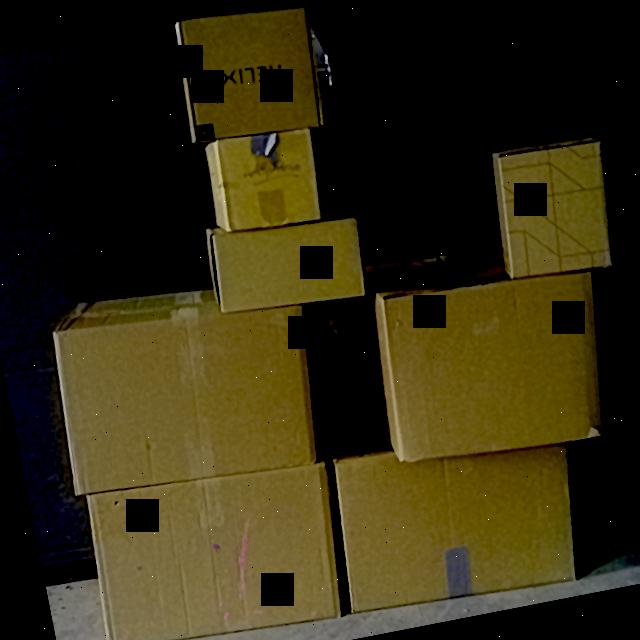box: (49, 285, 318, 505), (378, 266, 613, 474), (82, 456, 345, 640), (331, 432, 579, 610), (173, 0, 325, 153), (499, 140, 613, 282), (210, 217, 366, 317), (216, 122, 324, 238)
